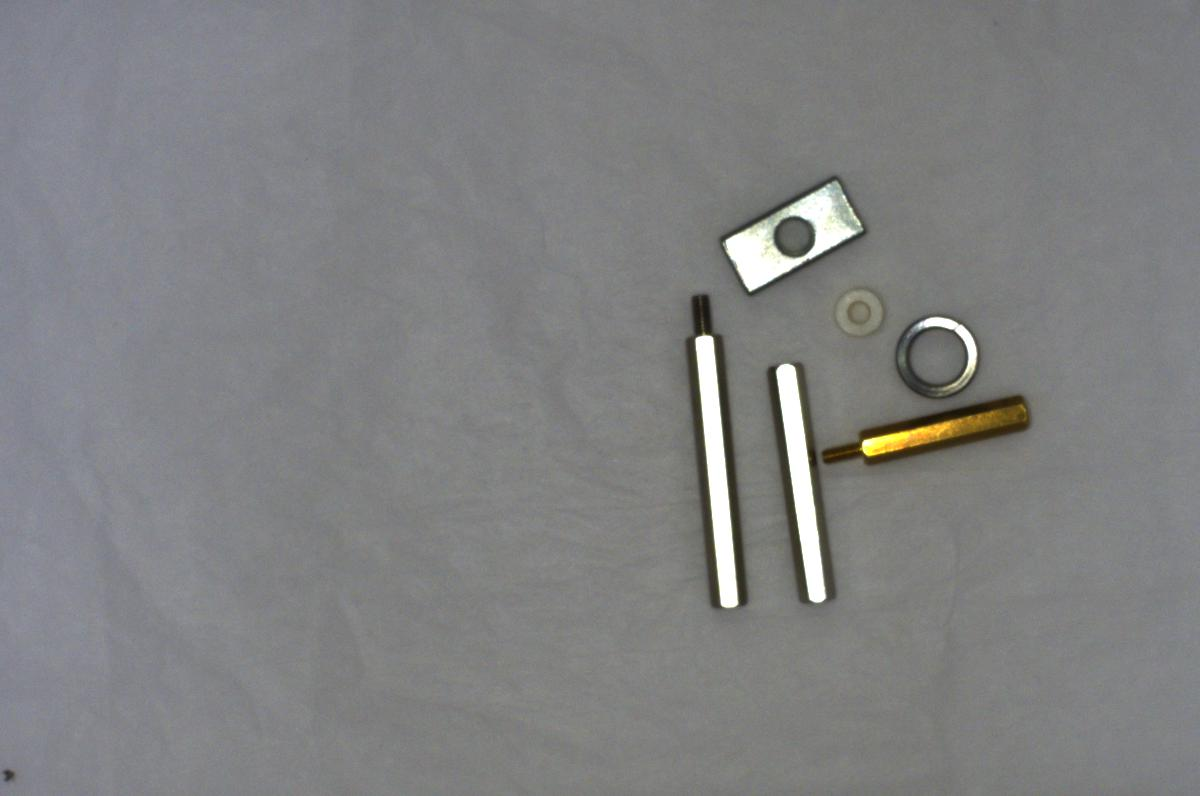Double hexagonal column: (757, 355, 839, 615)
Hexagon pillar: (819, 394, 1033, 472)
Hexagonal steel column: (678, 283, 755, 615)
Plastic cushion pillar: (825, 281, 891, 340)
Rectangular nut: (715, 174, 878, 294)
Spring washer: (882, 309, 993, 400)
